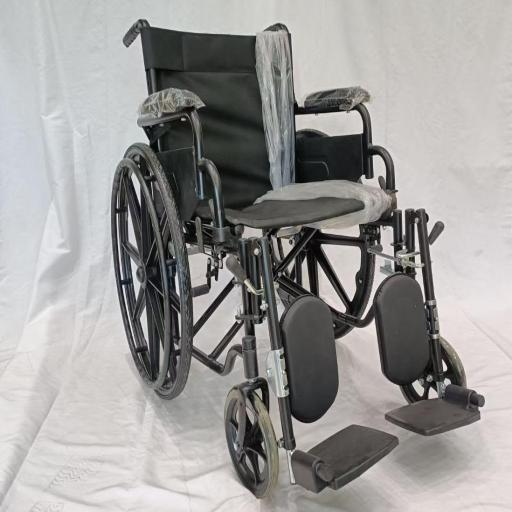wheelchair: (112, 20, 484, 496)
